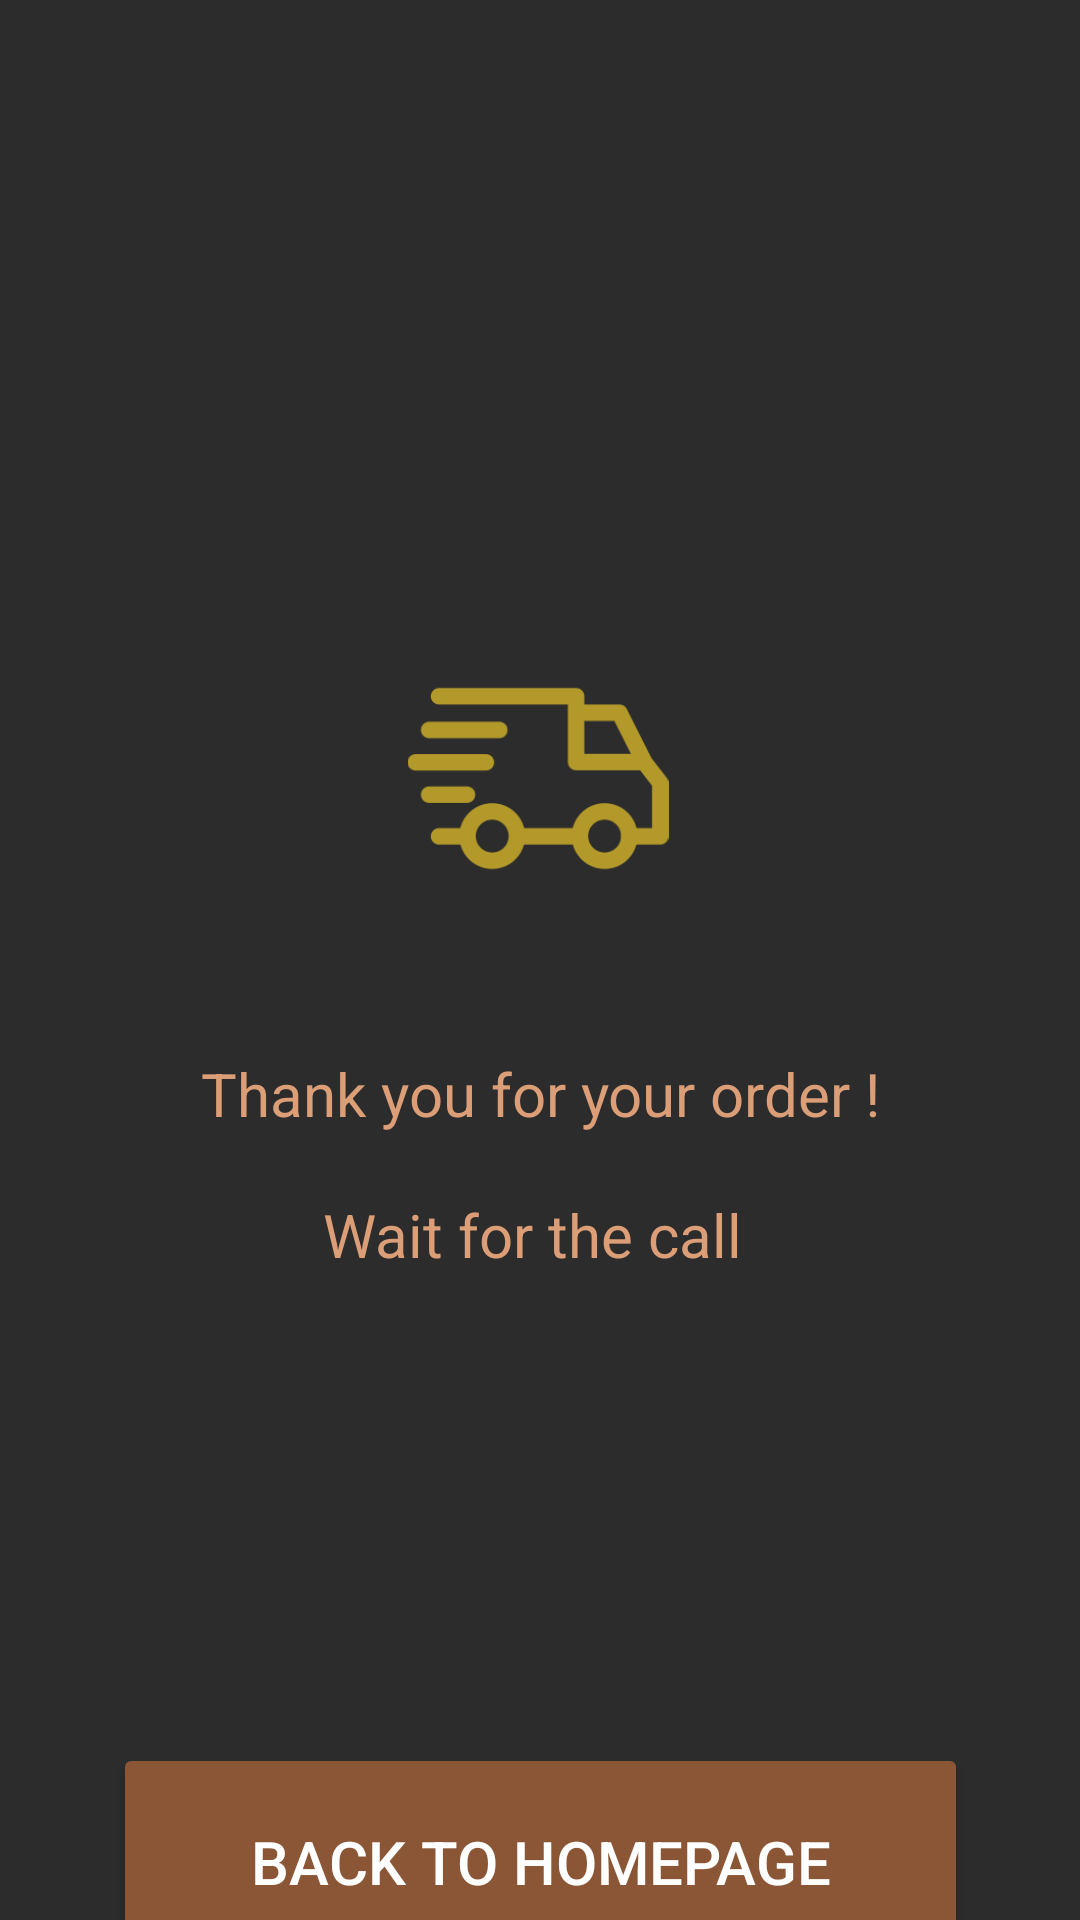

Where to tap for icons on this 1080w x 1920h app screen, as (x=x, y=y):
delivery: (x=538, y=778)
